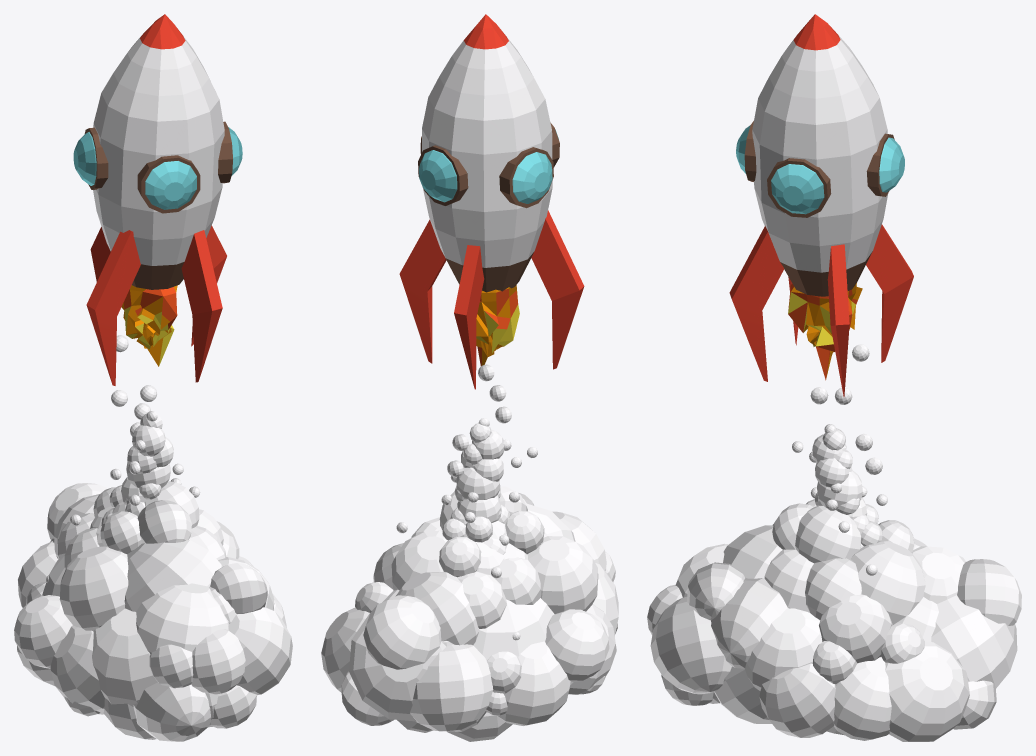
The model's file is RocketShip.glb.
3 renders of one model, left to right at view 1: azimuth 30°, elevation 25°; view 2: azimuth 150°, elevation 25°; view 3: azimuth 270°, elevation 25°, orthographic. The views are drawn at different scales.
Parts seen in each view (by area): view 1: Node; view 2: Node; view 3: Node.
Part boxes in pixels (box(x1,y1,x2,y2)): Node: box(14, 14, 292, 741); Node: box(321, 14, 618, 741); Node: box(647, 14, 1021, 741).
Size of the model in its own units: 0.491 by 1.35 by 0.6365.
1 material, 1 textured.
